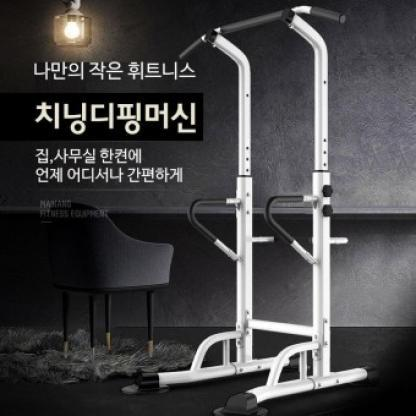chinning dipping: (180, 2, 379, 416)
